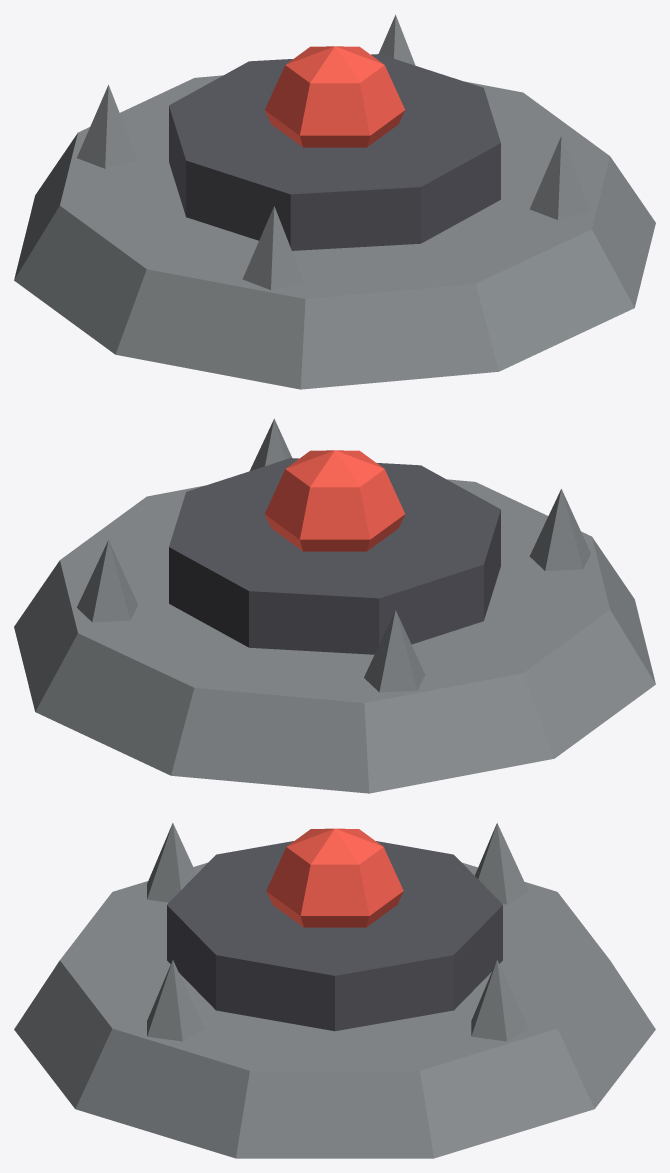
Rendered from Mine.fbx.
3 renders of one model, top to bottom at view 1: azimuth 30°, elevation 25°; view 2: azimuth 150°, elevation 25°; view 3: azimuth 270°, elevation 25°, orthographic. The views are drawn at different scales.
Visible parts, largest first — view 1: Mine; view 2: Mine; view 3: Mine.
Part boxes in pixels (x1=…): Mine: x1=14, y1=14, x2=655, y2=389; Mine: x1=14, y1=418, x2=655, y2=793; Mine: x1=14, y1=823, x2=655, y2=1158.
Bounding box in the file's own units: 0.7989 × 0.29 × 0.84.
